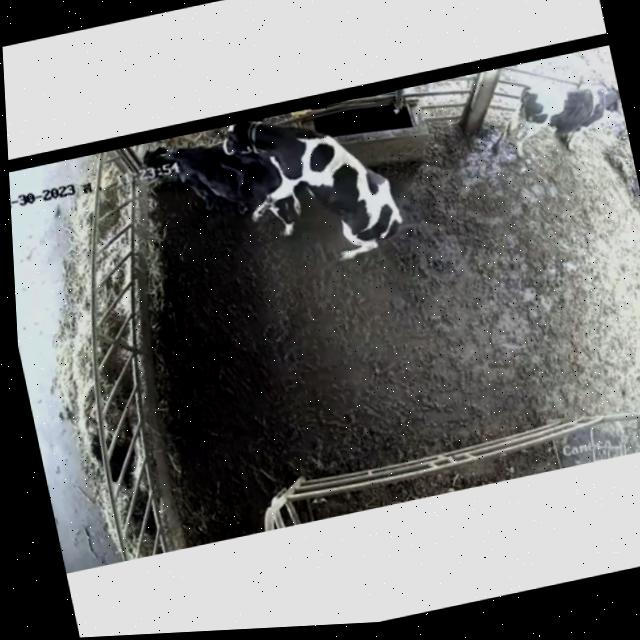ride: (196, 90, 424, 299)
